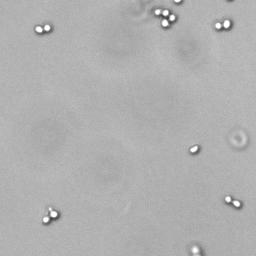budding: (39, 204, 61, 227), (220, 193, 244, 210), (212, 16, 236, 33), (31, 20, 55, 35)
cluster: (152, 6, 180, 29)
individual: (186, 141, 202, 156)
